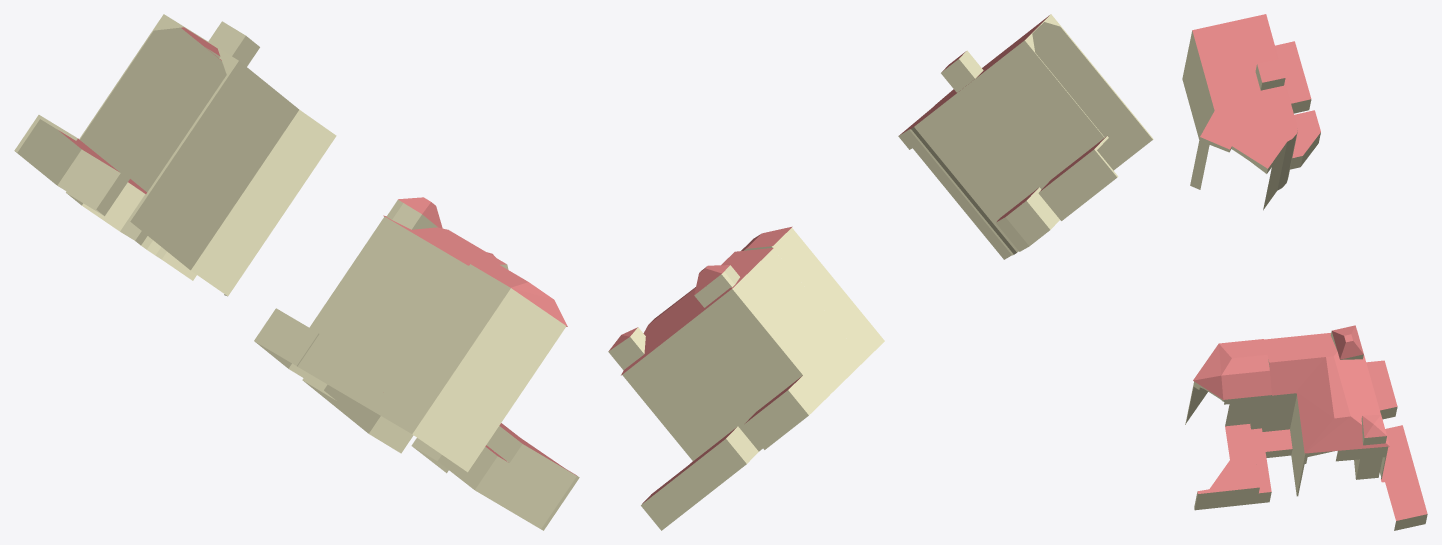
File: tile_082.glb
3 views of the same model, side by side, from view 1: azimuth 30°, elevation 25°; view 2: azimuth 150°, elevation 25°; view 3: azimuth 270°, elevation 25° (orthographic). The views are drawn at different scales.
Visible parts, largest first — view 1: Batched_Building_ID_9E7CFF2F-2130-4611-839A-698A932E76B7; view 2: Batched_Building_ID_9E7CFF2F-2130-4611-839A-698A932E76B7; view 3: Batched_Building_ID_9E7CFF2F-2130-4611-839A-698A932E76B7.
Part boxes in pixels (bbox=[...]): Batched_Building_ID_9E7CFF2F-2130-4611-839A-698A932E76B7: bbox=[14, 14, 579, 530]; Batched_Building_ID_9E7CFF2F-2130-4611-839A-698A932E76B7: bbox=[608, 14, 1153, 530]; Batched_Building_ID_9E7CFF2F-2130-4611-839A-698A932E76B7: bbox=[1182, 14, 1427, 530].
Size of the model in its own units: 101 by 104 by 56.9.
